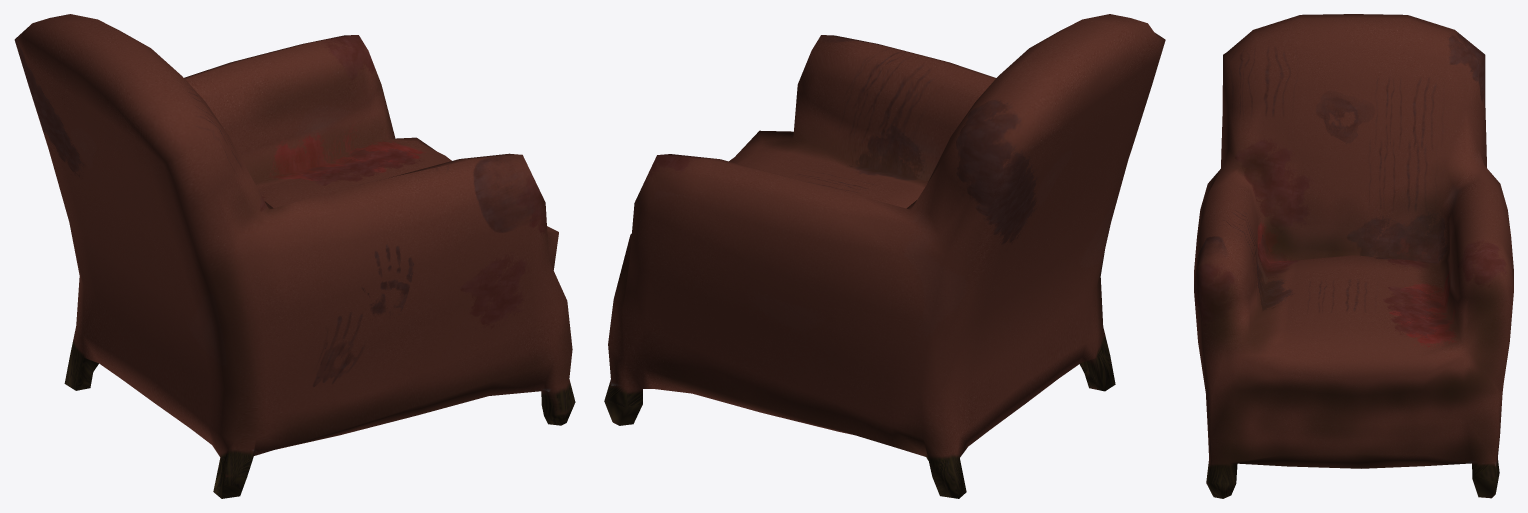
The model's file is кресло Untitled.glb.
3 views of the same model, side by side, from view 1: azimuth 30°, elevation 25°; view 2: azimuth 150°, elevation 25°; view 3: azimuth 270°, elevation 25° (orthographic). The views are drawn at different scales.
Parts seen in each view (by area): view 1: кресло лоу; view 2: кресло лоу; view 3: кресло лоу.
Boxes of the visible parts, x1,y1,x2,y2 form: кресло лоу: (14,14,575,498); кресло лоу: (604,14,1165,498); кресло лоу: (1194,14,1513,498).
Size of the model in its own units: 0.9869 by 0.9218 by 0.8052.
Materials: 1 (1 with a texture image).
